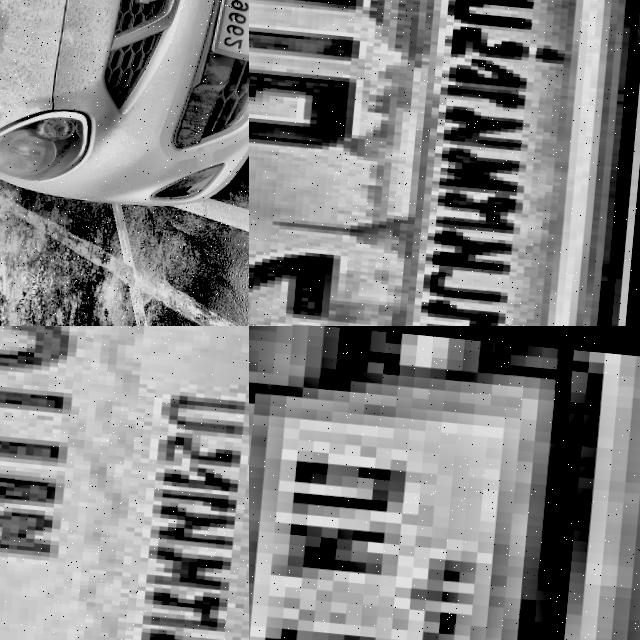license-plate: (249, 326, 640, 640), (249, 0, 620, 326), (0, 326, 249, 640), (210, 0, 249, 60)
